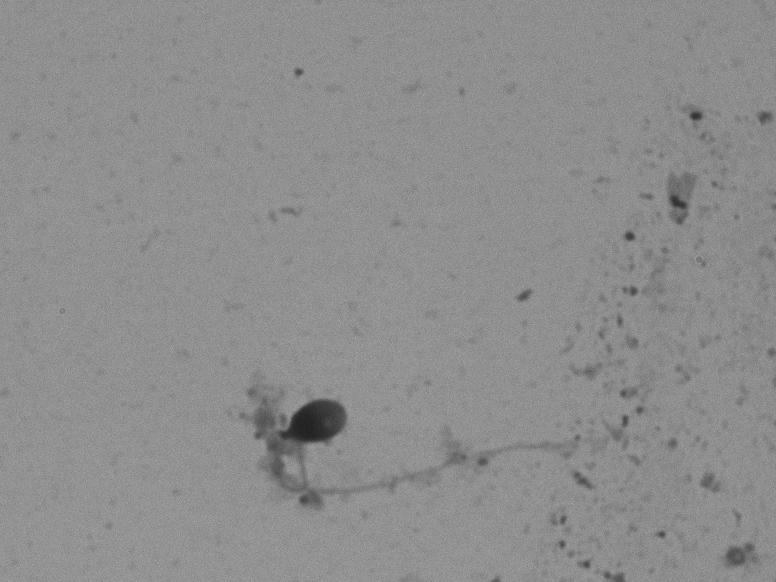Abnormal: (192, 352, 575, 519)
